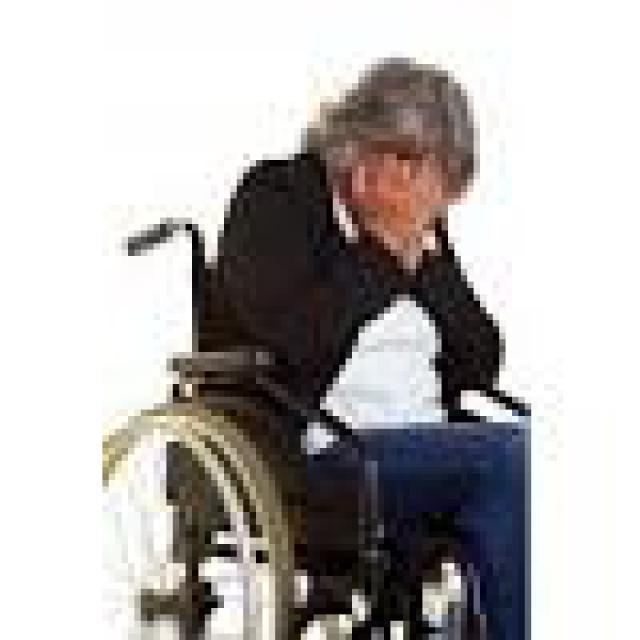wheelchairs: (90, 204, 570, 634)
